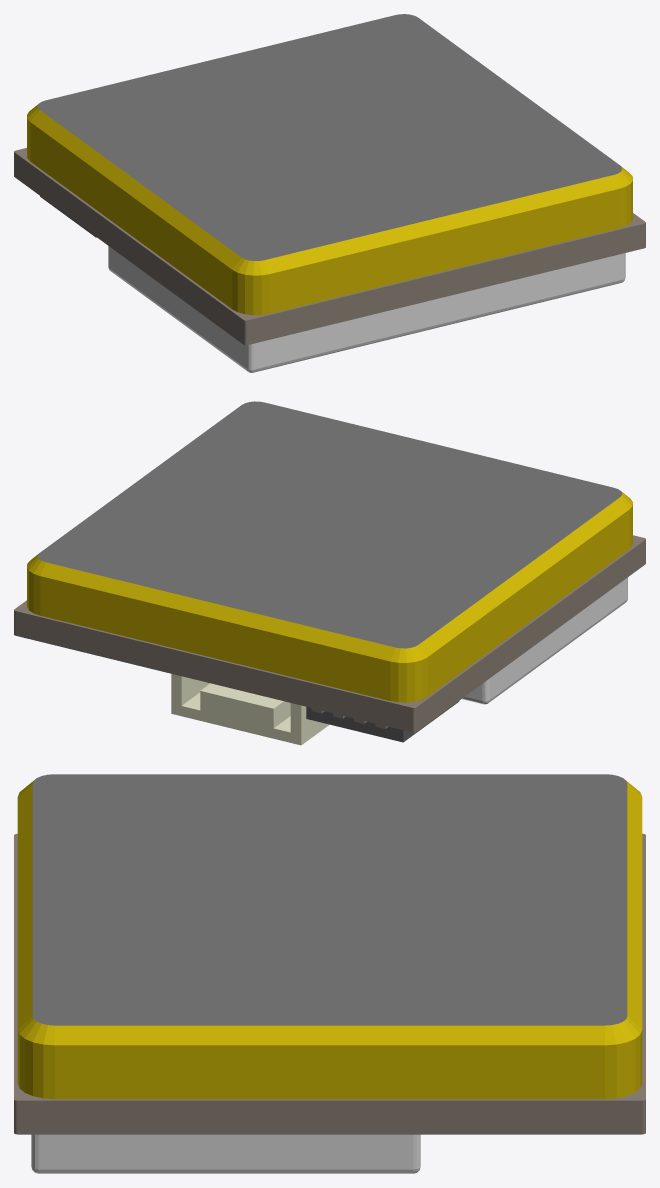
The model's file is model_foxeer_m10q_250-CAFxXIb7.glb.
The picture shows the model from 3 angles, top to bottom: view 1: azimuth 30°, elevation 25°; view 2: azimuth 150°, elevation 25°; view 3: azimuth 270°, elevation 25°; orthographic projection. The views are drawn at different scales.
Bounding box in the file's own units: 17 × 5.5 × 17.
